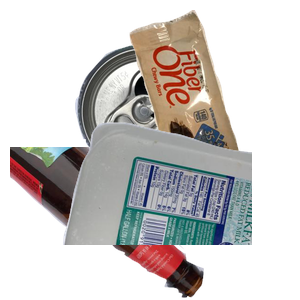glass: (10, 147, 207, 300)
metal: (73, 42, 277, 212)
plastic: (60, 120, 300, 300)
trash: (127, 10, 300, 190)
